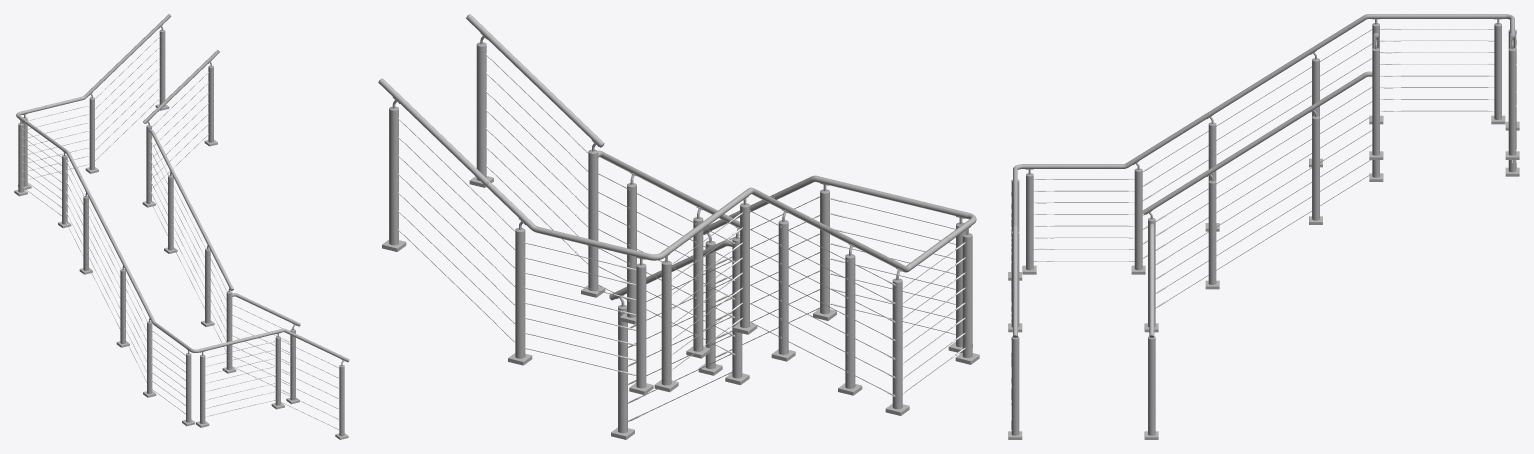
The model's file is U-Shaped_Railing_Koto_Round.gltf.
The picture shows the model from 3 angles, left to right: view 1: azimuth 30°, elevation 25°; view 2: azimuth 150°, elevation 25°; view 3: azimuth 270°, elevation 25°; orthographic projection. The views are drawn at different scales.
Visible parts, largest first — view 1: Nested_Bend Bend [8719267]001, Nested_Rail LS Material [8719249], Custom - Koto Round Post Material LS Material [8467990]001, Custom - Koto Round Post Material LS Material [8467853]001, Custom - Koto Round Post Material LS Material [8467990], Custom - Koto Round Post Material LS Material [8467853], Custom - Koto Round Post Material LS Material [8579826]006, Custom - Koto Round Post Material LS Material [8579826]005, Custom - Koto Round Post Material LS Material [8579826]007, Custom - Koto Round Post Material LS Material [8579826]004, Custom - Koto Round Post Material LS Material [8579823], Custom - Koto Round Post Material LS Material [8579823]001 (+10 smaller); view 2: Custom - Koto Round Post Material LS Material [8579826]004, Custom - Koto Round Post Material LS Material [8467990], Custom - Koto Round Post Material LS Material [8579826]005, Custom - Koto Round Post Material LS Material [8467853], Custom - Koto Round Post Material LS Material [8579823], Custom - Koto Round Post Material LS Material [8579823]001, Custom - Koto Round Post Material LS Material [8579826]007, Custom - Koto Round Post Material LS Material [8467853]001, Custom - Koto Round Post Material LS Material [8580439]007, Custom - Koto Round Post Material LS Material [8580439]008, Custom - Koto Round Post Material LS Material [8580439]009, Nested_Rail LS Material [8461322] (+16 smaller); view 3: Nested_Bend Bend [8719267]001, Nested_Rail LS Material [8719249], Custom - Koto Round Post Material LS Material [8467853]001, Custom - Koto Round Post Material LS Material [8579826]007, Custom - Koto Round Post Material LS Material [8579823]001, Custom - Koto Round Post Material LS Material [8581377]002, Custom - Koto Round Post Material LS Material [8467853], Custom - Koto Round Post Material LS Material [8579826]006, Custom - Koto Round Post Material LS Material [8467844]002, Custom - Koto Round Post Material LS Material [8580439]009, Custom - Koto Round Post Material LS Material [8580439]008, Nested_Bend Bend [8719267] (+2 smaller).
Part boxes in pixels (box(x1,y1,x2,y2)): Nested_Bend Bend [8719267]001: box(149, 129, 233, 289); Nested_Rail LS Material [8719249]: box(79, 176, 140, 293); Custom - Koto Round Post Material LS Material [8467990]001: box(226, 293, 232, 369); Custom - Koto Round Post Material LS Material [8467853]001: box(159, 32, 165, 106); Custom - Koto Round Post Material LS Material [8467990]: box(146, 127, 151, 203); Custom - Koto Round Post Material LS Material [8467853]: box(208, 67, 213, 142); Custom - Koto Round Post Material LS Material [8579826]006: box(168, 177, 173, 250); Custom - Koto Round Post Material LS Material [8579826]005: box(83, 197, 88, 270); Custom - Koto Round Post Material LS Material [8579826]007: box(205, 250, 210, 323); Custom - Koto Round Post Material LS Material [8579826]004: box(120, 271, 125, 343); Custom - Koto Round Post Material LS Material [8579823]: box(89, 99, 94, 169); Custom - Koto Round Post Material LS Material [8579823]001: box(147, 323, 152, 393); Custom - Koto Round Post Material LS Material [8579826]004: box(845, 257, 855, 388); Custom - Koto Round Post Material LS Material [8467990]: box(588, 153, 598, 290); Custom - Koto Round Post Material LS Material [8579826]005: box(778, 223, 788, 354); Custom - Koto Round Post Material LS Material [8467853]: box(476, 45, 486, 180); Custom - Koto Round Post Material LS Material [8579823]: box(515, 231, 525, 358); Custom - Koto Round Post Material LS Material [8579823]001: box(892, 281, 902, 409); Custom - Koto Round Post Material LS Material [8579826]007: box(693, 220, 703, 351); Custom - Koto Round Post Material LS Material [8467853]001: box(389, 109, 398, 245); Custom - Koto Round Post Material LS Material [8580439]007: box(636, 266, 646, 388); Custom - Koto Round Post Material LS Material [8580439]008: box(661, 264, 671, 385); Custom - Koto Round Post Material LS Material [8580439]009: box(962, 236, 972, 357); Nested_Rail LS Material [8461322]: box(466, 14, 603, 146); Nested_Bend Bend [8719267]001: box(1142, 71, 1372, 214); Nested_Rail LS Material [8719249]: box(1167, 36, 1332, 141); Custom - Koto Round Post Material LS Material [8467853]001: box(1508, 50, 1516, 155); Custom - Koto Round Post Material LS Material [8579826]007: box(1208, 183, 1216, 284); Custom - Koto Round Post Material LS Material [8579823]001: box(1134, 171, 1142, 270); Custom - Koto Round Post Material LS Material [8581377]002: box(1011, 338, 1019, 435); Custom - Koto Round Post Material LS Material [8467853]: box(1372, 50, 1379, 155); Custom - Koto Round Post Material LS Material [8579826]006: box(1312, 118, 1319, 220); Custom - Koto Round Post Material LS Material [8467844]002: box(1148, 338, 1155, 435); Custom - Koto Round Post Material LS Material [8580439]009: box(1026, 176, 1033, 270); Custom - Koto Round Post Material LS Material [8580439]008: box(1494, 25, 1501, 119); Nested_Bend Bend [8719267]: box(1331, 14, 1465, 39).
Bounding box in the file's own units: 1.99 × 3.48 × 3.95.
